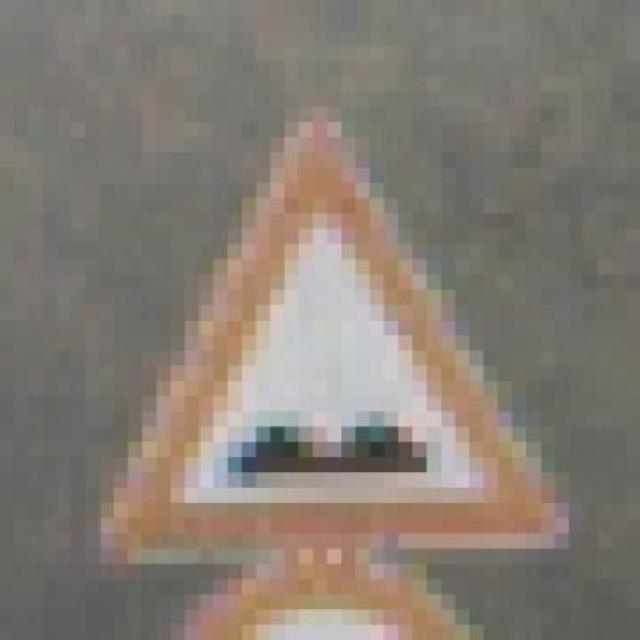Uneven Road: (85, 91, 569, 564)
